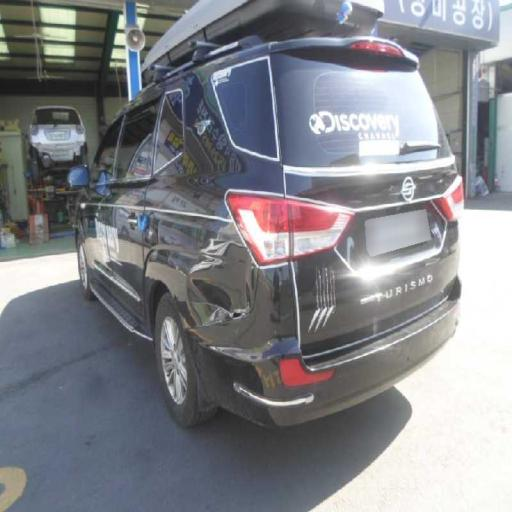broken: (210, 282, 257, 337)
scratch: (305, 205, 447, 352), (187, 187, 246, 308)
